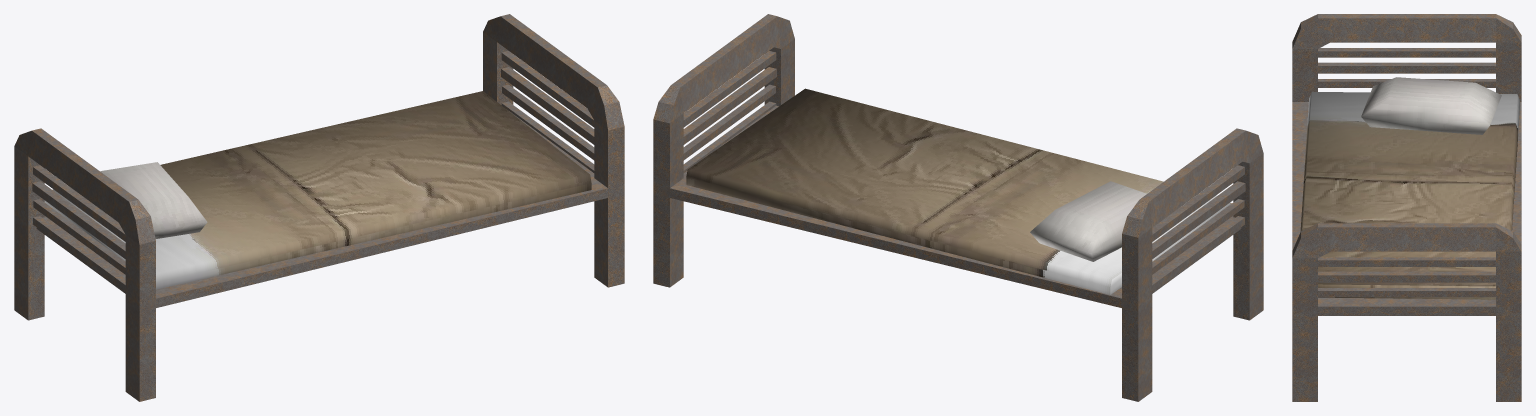
File: bed.glb
The picture shows the model from 3 angles, left to right: view 1: azimuth 30°, elevation 25°; view 2: azimuth 150°, elevation 25°; view 3: azimuth 270°, elevation 25°; orthographic projection. The views are drawn at different scales.
Visible parts, largest first — view 1: mattress, frame, pillah; view 2: mattress, frame, pillah; view 3: frame, mattress, pillah.
Part boxes in pixels (<box>): mattress: <box>44,91,591,289</box>; frame: <box>14,14,624,401</box>; pillah: <box>100,162,207,238</box>; mattress: <box>686,88,1230,294</box>; frame: <box>653,14,1263,401</box>; pillah: <box>1030,181,1146,261</box>; frame: <box>1292,14,1521,401</box>; mattress: <box>1300,91,1519,299</box>; pillah: <box>1361,77,1501,134</box>.
Bounding box in the file's own units: 2.01 × 0.75 × 0.9.
Materials: 2 (2 with a texture image).
